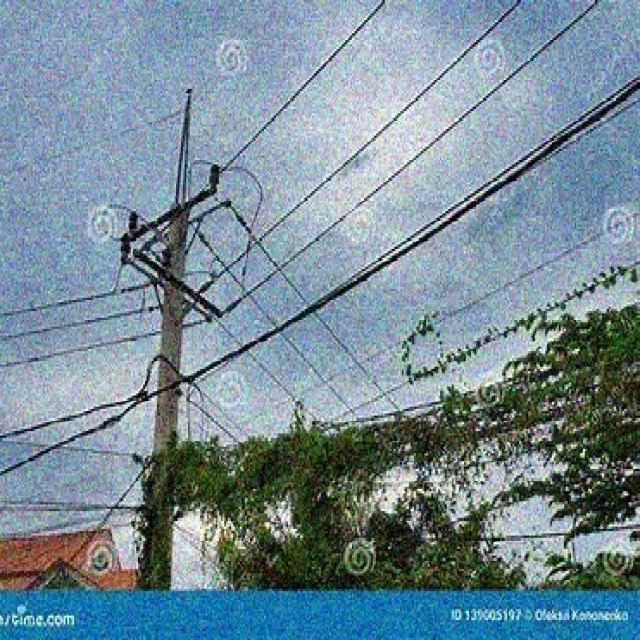critical vegetation: (153, 392, 638, 532)
